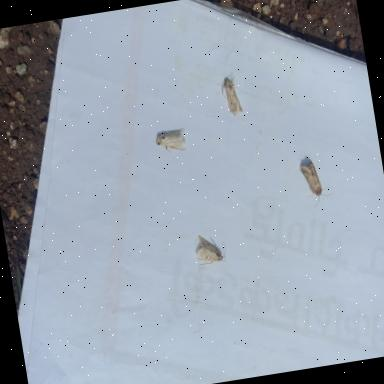abw: (298, 158, 336, 210), (192, 232, 228, 267), (220, 76, 243, 119), (154, 127, 187, 154)
